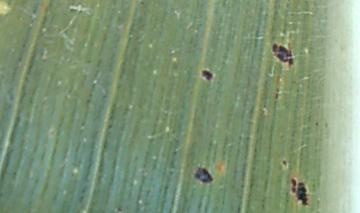tarspot: (271, 42, 295, 67), (192, 166, 214, 184), (297, 182, 309, 207), (199, 69, 214, 82), (281, 159, 288, 167), (291, 177, 297, 186), (291, 187, 297, 193)
